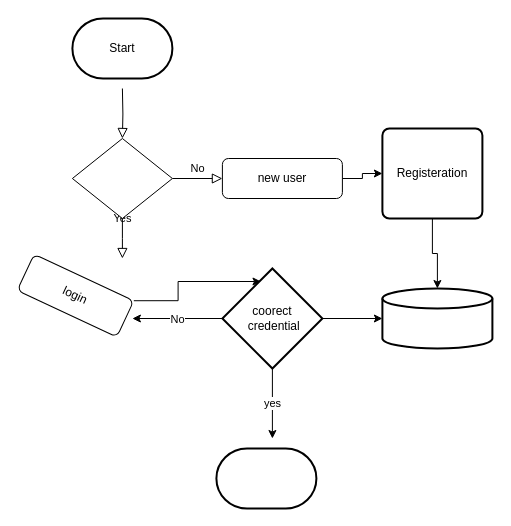
This 511x526 diagram has some shape labels left out. Each missing label, with the centre of its shape:
End: the point at 266,478
Registered: the point at 121,178
User DB: the point at 437,318
